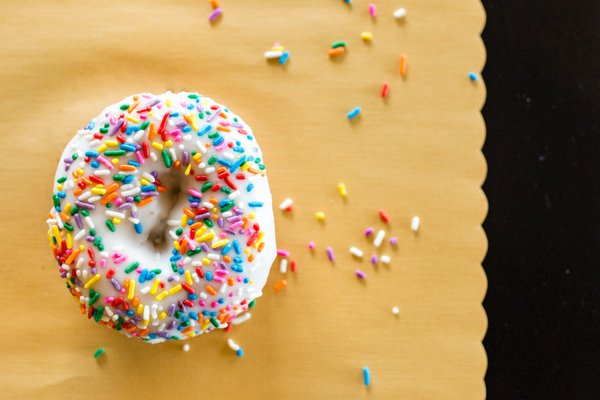curry: (3, 0, 503, 396)
salad: (46, 89, 277, 344)
